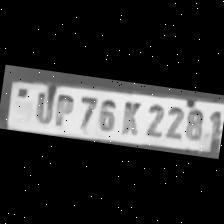2: (140, 100, 168, 138), (162, 102, 186, 140)
6: (93, 95, 120, 134)
7: (72, 92, 98, 130)
8: (182, 105, 206, 142)
K: (116, 96, 145, 136)
P: (52, 90, 76, 128)
U: (30, 87, 56, 126)
